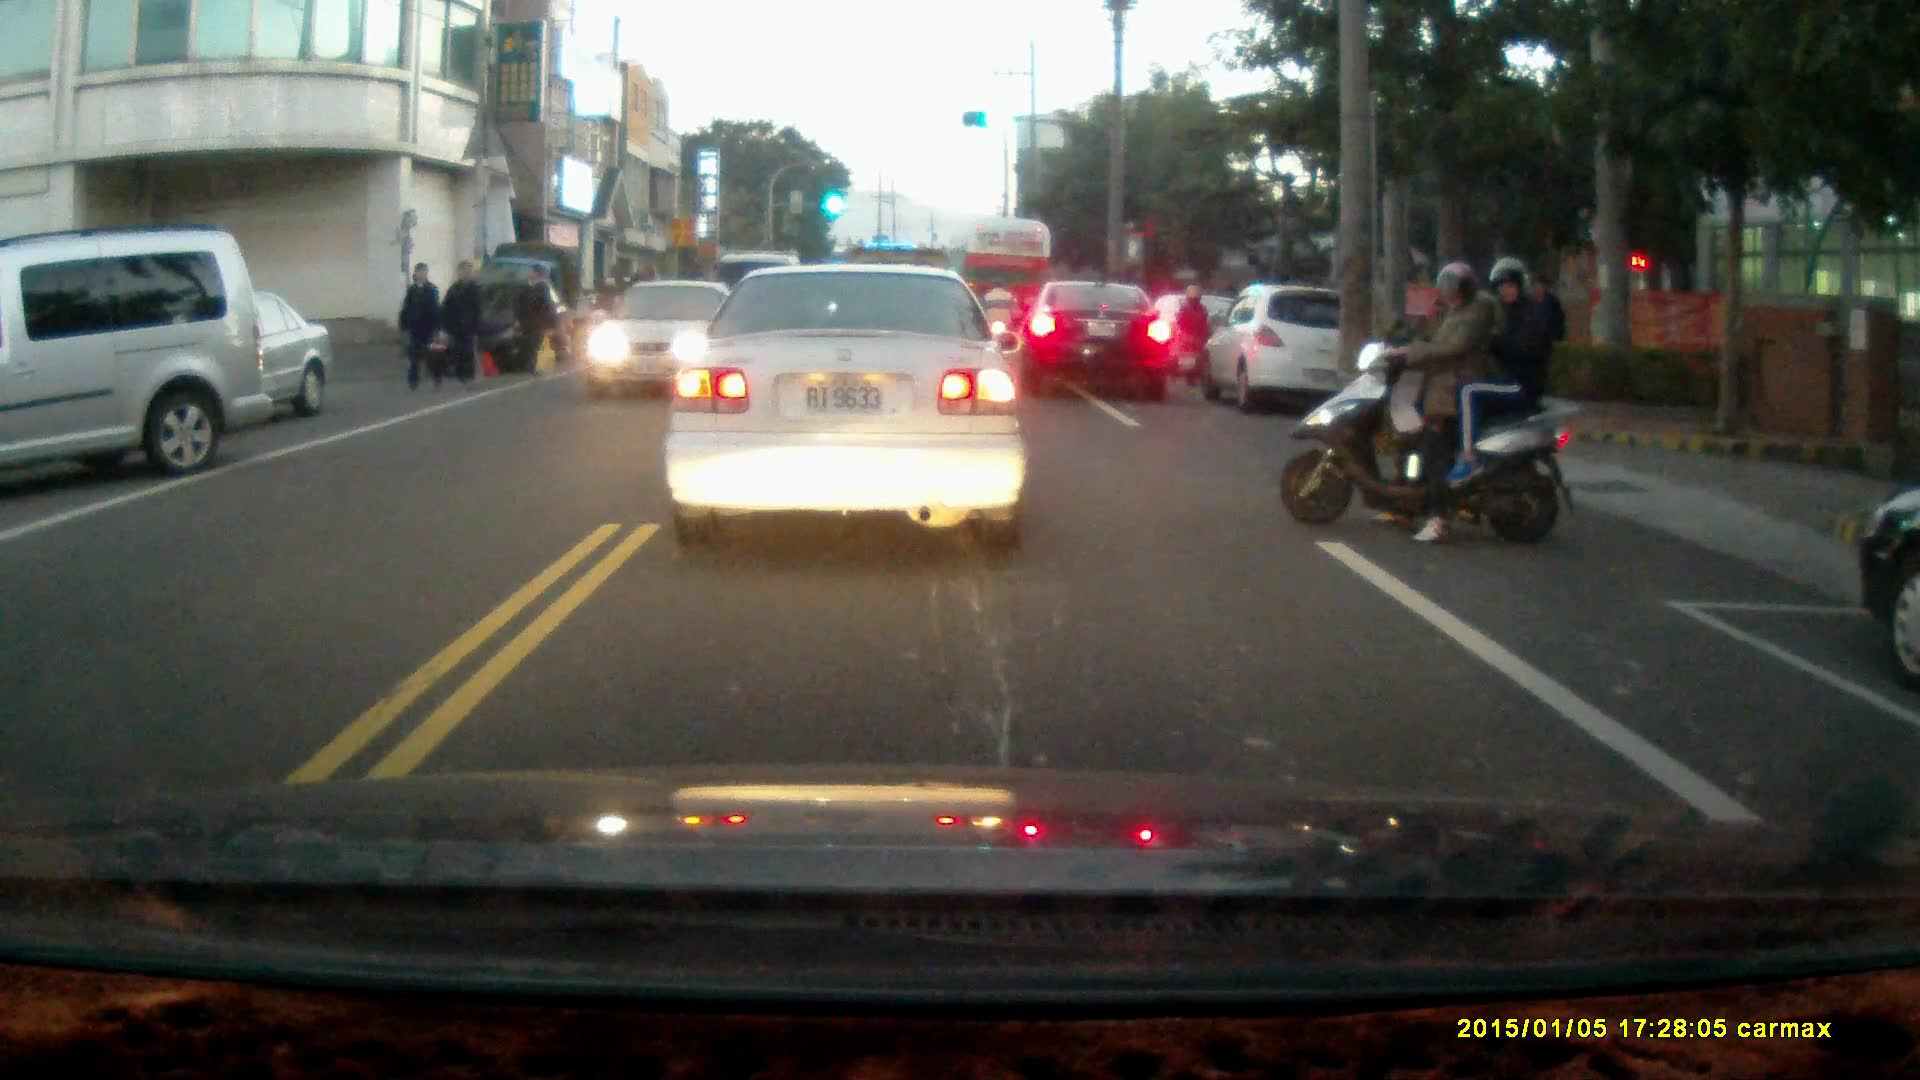pedestrian: (397, 262, 445, 395), (1515, 271, 1566, 392), (442, 259, 484, 387), (508, 263, 554, 375), (598, 260, 626, 344)
rider: (1278, 256, 1576, 552), (1171, 286, 1212, 391)
vehicle: (661, 261, 1033, 552), (1, 222, 255, 486), (62, 288, 336, 427), (1203, 281, 1384, 417), (583, 277, 736, 407), (1014, 283, 1177, 402), (951, 216, 1058, 355)
